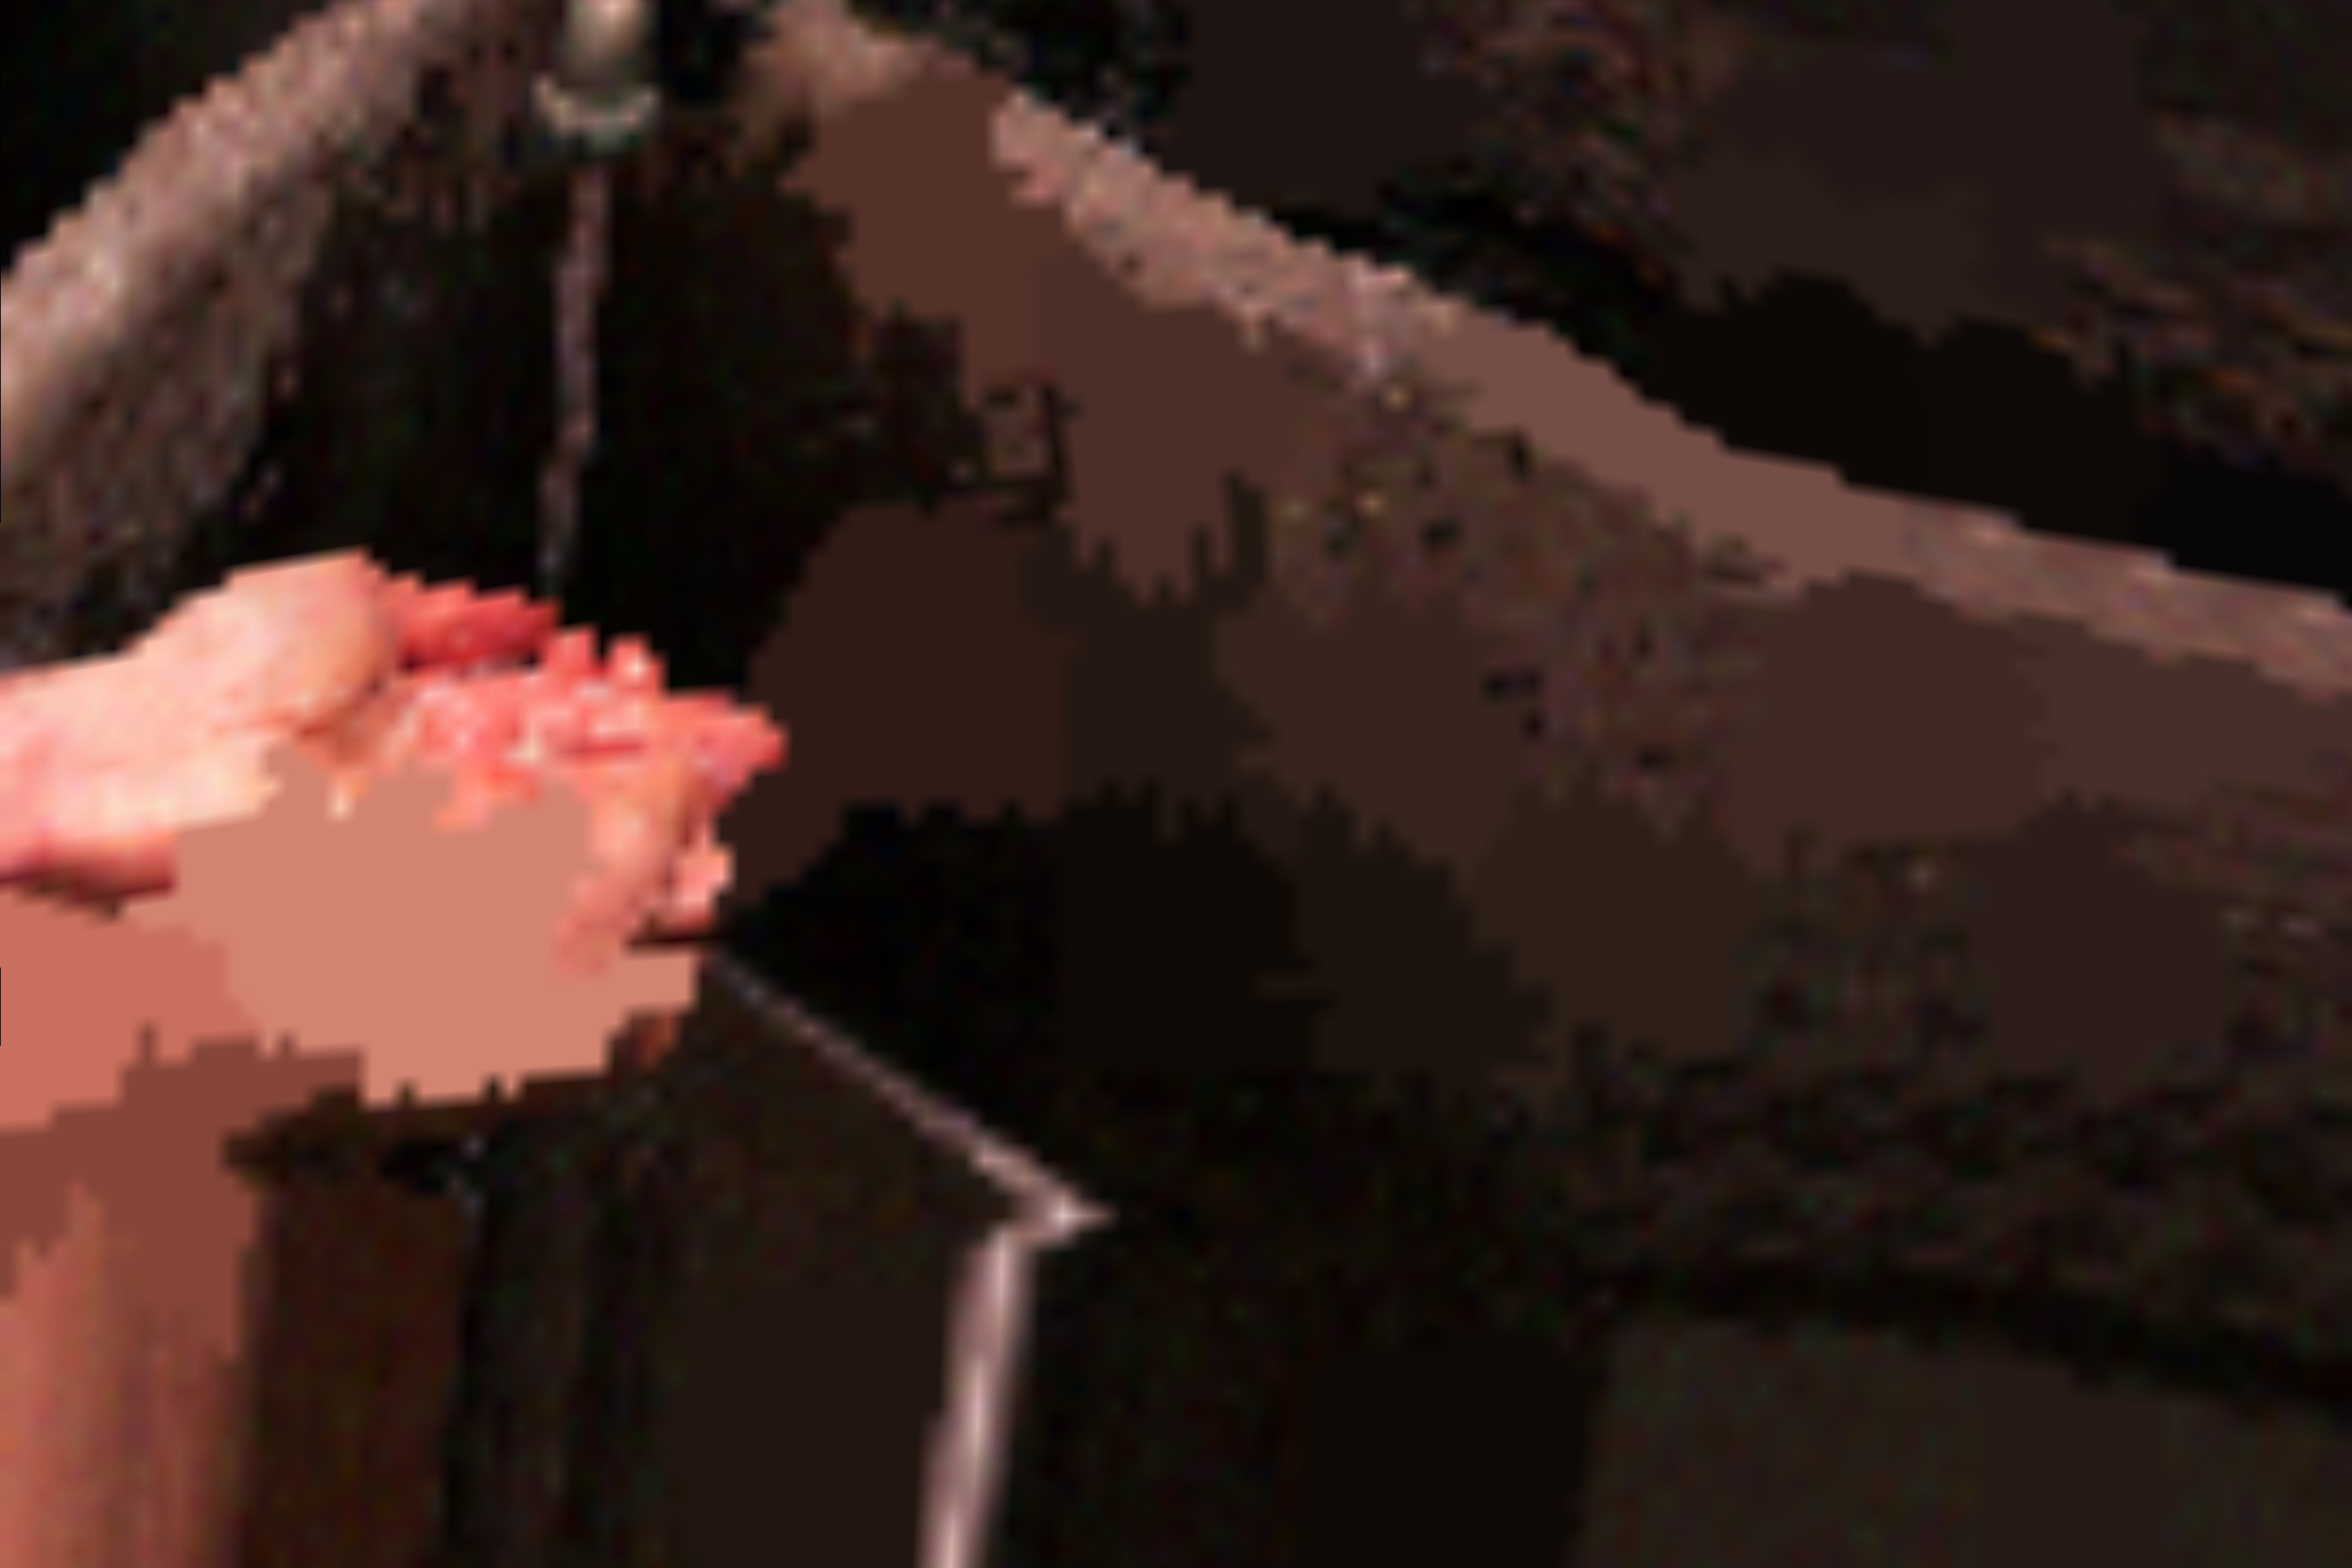washing hand: (0, 0, 1169, 1216)
